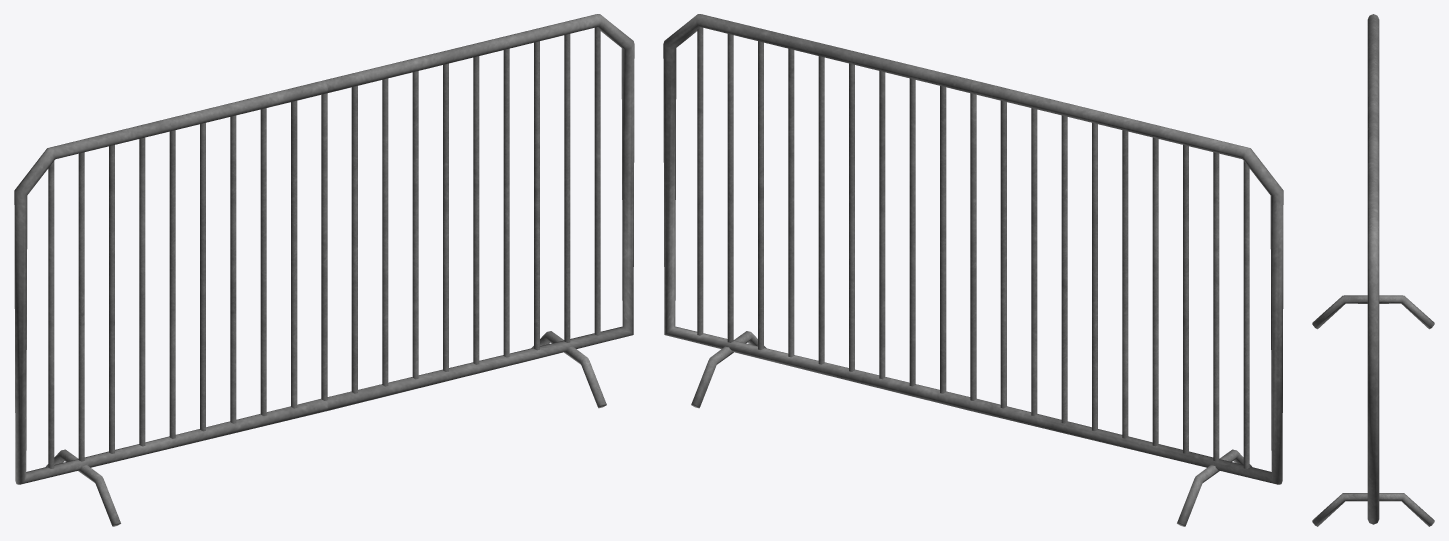
The model's file is metal_fence.glb.
The picture shows the model from 3 angles, left to right: view 1: azimuth 30°, elevation 25°; view 2: azimuth 150°, elevation 25°; view 3: azimuth 270°, elevation 25°; orthographic projection. The views are drawn at different scales.
Visible parts, largest first — view 1: MetalFence; view 2: MetalFence; view 3: MetalFence.
Boxes of the visible parts, bbox=[...] form: MetalFence: bbox=[14, 14, 634, 526]; MetalFence: bbox=[663, 14, 1283, 526]; MetalFence: bbox=[1312, 14, 1434, 526].
Size of the model in its own units: 2 by 1.12 by 0.4108.
1 material, 1 textured.
